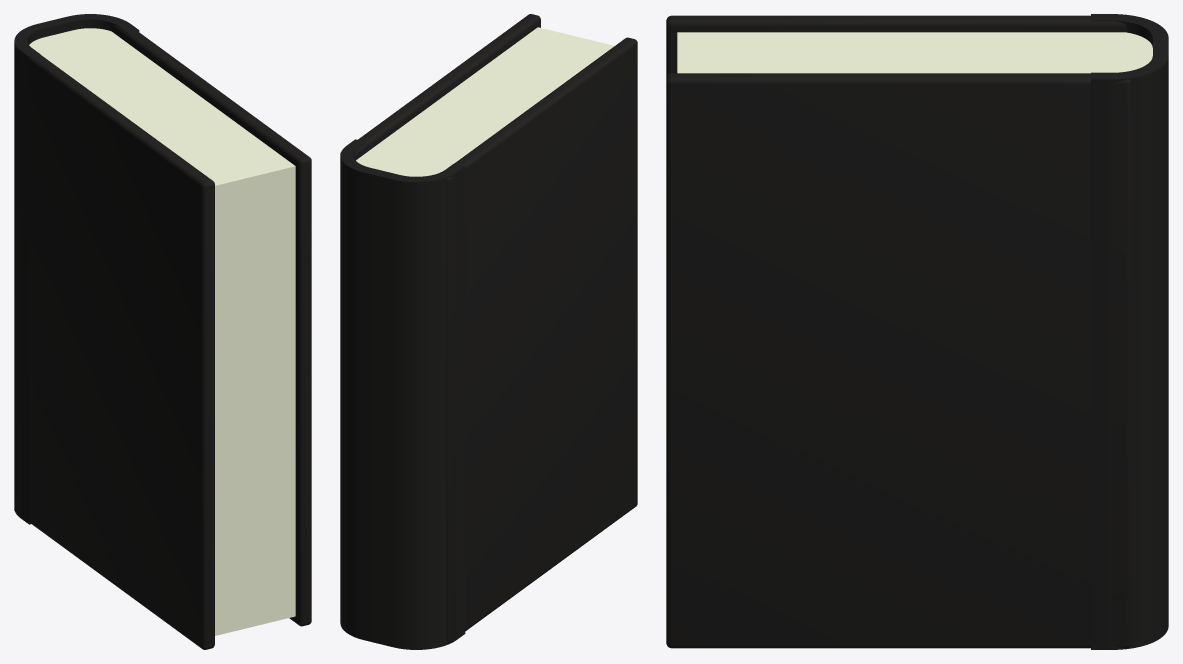
3 renders of one model, left to right at view 1: azimuth 30°, elevation 25°; view 2: azimuth 150°, elevation 25°; view 3: azimuth 270°, elevation 25°, orthographic. The views are drawn at different scales.
Visible parts, largest first — view 1: cover.001, pages, cover, rounded_spine; view 2: cover.001, rounded_spine, pages, cover; view 3: cover, rounded_spine, pages, cover.001.
Boxes of the visible parts, x1,y1,x2,y2 form: cover.001: (14, 44, 214, 649); pages: (29, 28, 295, 635); cover: (111, 21, 311, 626); rounded_spine: (14, 14, 139, 524); cover.001: (441, 37, 637, 643); rounded_spine: (340, 139, 465, 649); pages: (356, 27, 614, 176); cover: (340, 14, 540, 160); cover: (666, 73, 1131, 648); rounded_spine: (1091, 14, 1168, 649); pages: (677, 32, 1152, 73); cover.001: (666, 15, 1126, 77).
Size of the model in its own units: 0.059 by 0.24 by 0.1915.
